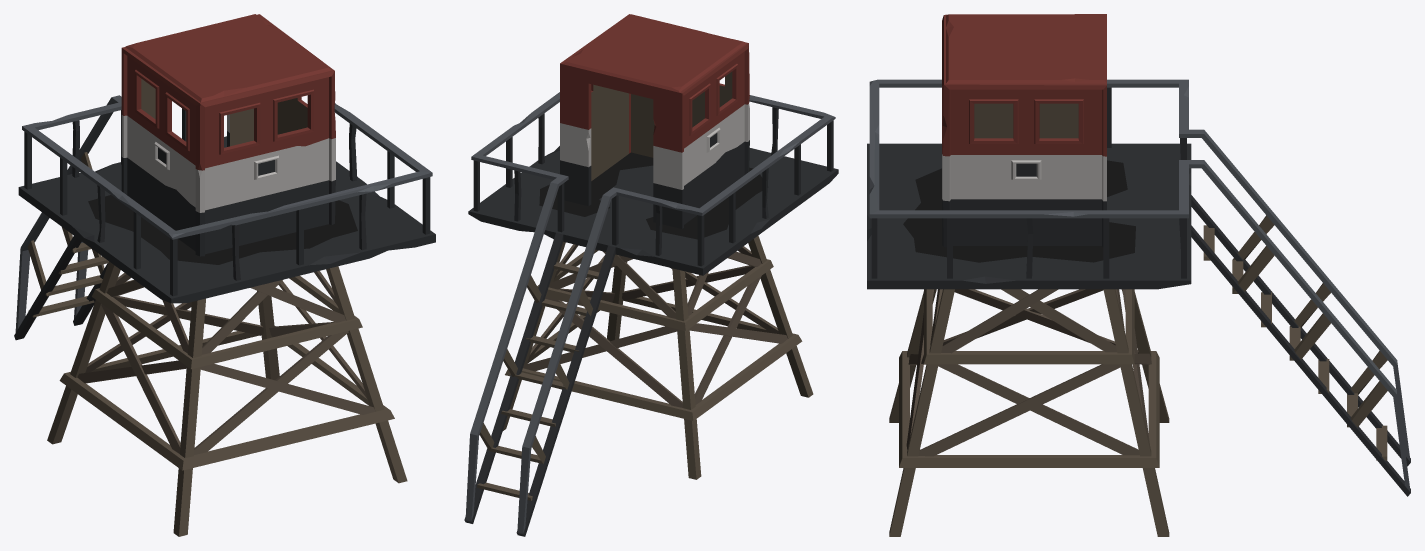
File: SM_Bld_GuardTower_02.fbx
3 views of the same model, side by side, from view 1: azimuth 30°, elevation 25°; view 2: azimuth 150°, elevation 25°; view 3: azimuth 270°, elevation 25° (orthographic). The views are drawn at different scales.
Visible parts, largest first — view 1: SM_Bld_GuardTower_02; view 2: SM_Bld_GuardTower_02; view 3: SM_Bld_GuardTower_02.
Part boxes in pixels (bbox=[...]): SM_Bld_GuardTower_02: bbox=[14, 14, 435, 536]; SM_Bld_GuardTower_02: bbox=[464, 14, 838, 536]; SM_Bld_GuardTower_02: bbox=[867, 14, 1410, 536].
Size of the model in its own units: 396 by 583 by 664.
